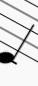LC: (0, 1, 35, 68)
